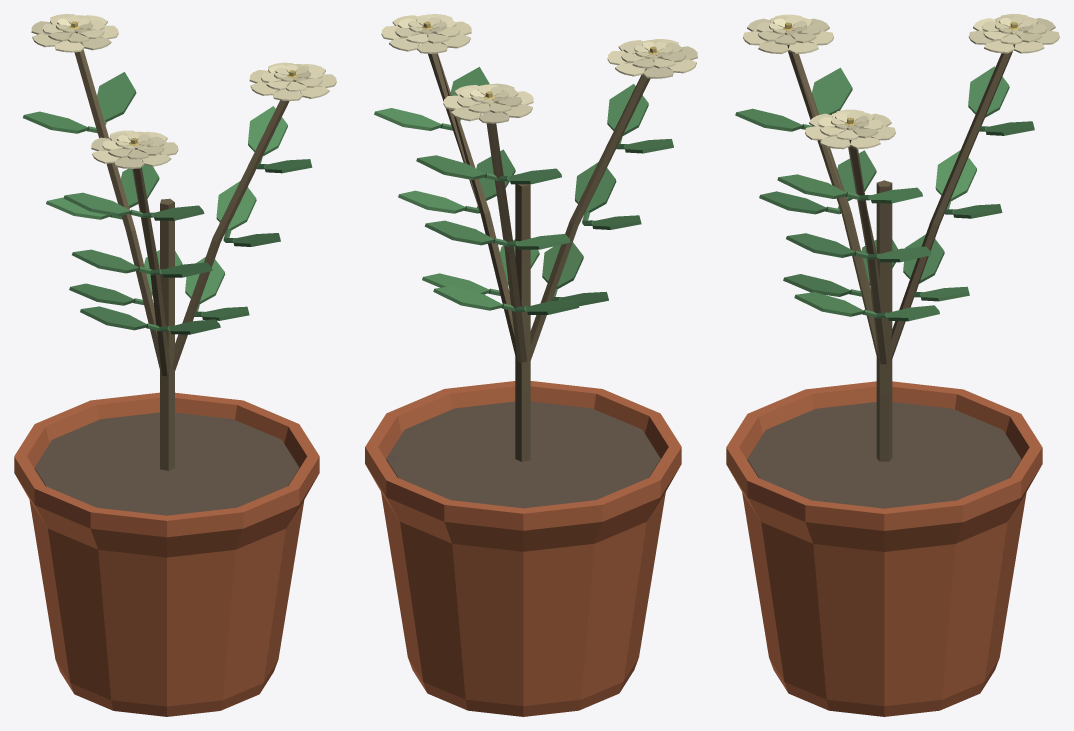
File: gardenia.glb
3 renders of one model, left to right at view 1: azimuth 30°, elevation 25°; view 2: azimuth 150°, elevation 25°; view 3: azimuth 270°, elevation 25°, orthographic. The views are drawn at different scales.
Visible parts, largest first — view 1: gardenia/review-terra-vessel, gardenia/review-rooted-soil, gardenia/petiole-001, gardenia/stem-038, gardenia/stem-002, gardenia/stem-074, gardenia/leaf-048, gardenia/leaf-014, gardenia/leaf-010, gardenia/leaf-084, gardenia/leaf-076, gardenia/leaf-080 (+8 smaller); view 2: gardenia/review-terra-vessel, gardenia/review-rooted-soil, gardenia/petiole-001, gardenia/stem-074, gardenia/stem-002, gardenia/stem-038, gardenia/leaf-086, gardenia/leaf-082, gardenia/leaf-078, gardenia/leaf-044, gardenia/leaf-048, gardenia/leaf-040 (+9 smaller); view 3: gardenia/review-terra-vessel, gardenia/review-rooted-soil, gardenia/petiole-001, gardenia/stem-038, gardenia/stem-074, gardenia/stem-002, gardenia/leaf-084, gardenia/leaf-050, gardenia/leaf-046, gardenia/leaf-012, gardenia/leaf-008, gardenia/leaf-004 (+11 smaller).
Boxes of the visible parts, <box> form: gardenia/review-terra-vessel: <box>14,392,319,716</box>; gardenia/review-rooted-soil: <box>34,412,299,515</box>; gardenia/petiole-001: <box>160,198,174,470</box>; gardenia/stem-038: <box>74,42,159,368</box>; gardenia/stem-002: <box>172,100,289,370</box>; gardenia/stem-074: <box>132,159,170,376</box>; gardenia/leaf-048: <box>97,72,136,121</box>; gardenia/leaf-014: <box>248,106,287,156</box>; gardenia/leaf-010: <box>216,181,256,230</box>; gardenia/leaf-084: <box>63,192,130,216</box>; gardenia/leaf-076: <box>80,306,147,330</box>; gardenia/leaf-080: <box>72,249,138,273</box>; gardenia/review-terra-vessel: <box>365,381,681,716</box>; gardenia/review-rooted-soil: <box>386,401,660,508</box>; gardenia/petiole-001: <box>515,184,530,461</box>; gardenia/stem-074: <box>530,68,650,360</box>; gardenia/stem-002: <box>427,36,515,354</box>; gardenia/stem-038: <box>486,123,527,363</box>; gardenia/leaf-086: <box>607,84,648,136</box>; gardenia/leaf-082: <box>574,162,616,212</box>; gardenia/leaf-078: <box>542,242,583,289</box>; gardenia/leaf-044: <box>424,220,494,245</box>; gardenia/leaf-048: <box>416,155,486,179</box>; gardenia/leaf-040: <box>433,286,502,310</box>; gardenia/review-terra-vessel: <box>726,381,1042,716</box>; gardenia/review-rooted-soil: <box>747,402,1021,508</box>; gardenia/petiole-001: <box>876,180,892,461</box>; gardenia/stem-038: <box>890,44,1015,360</box>; gardenia/stem-074: <box>787,45,877,355</box>; gardenia/stem-002: <box>848,140,887,364</box>; gardenia/leaf-084: <box>812,67,852,114</box>; gardenia/leaf-050: <box>968,66,1009,117</box>; gardenia/leaf-046: <box>935,150,976,201</box>; gardenia/leaf-012: <box>777,174,847,198</box>; gardenia/leaf-008: <box>786,233,855,257</box>; gardenia/leaf-004: <box>794,292,863,316</box>.
Size of the model in its own units: 0.2838 by 0.595 by 0.2847.
Materials: 6 (6 with a texture image).
